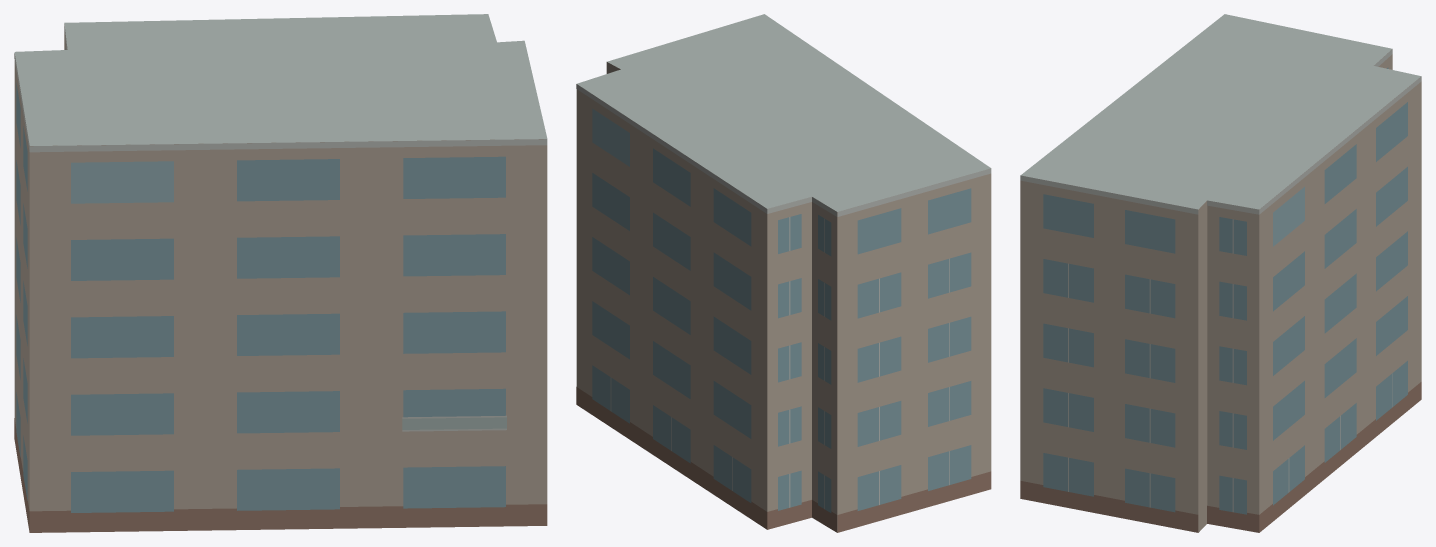
Rendered from survey-upis-32581408.glb.
3 views of the same model, side by side, from view 1: azimuth 30°, elevation 25°; view 2: azimuth 150°, elevation 25°; view 3: azimuth 270°, elevation 25° (orthographic). The views are drawn at different scales.
Visible parts, largest first — view 1: survey-upis-32581408.tmp; view 2: survey-upis-32581408.tmp; view 3: survey-upis-32581408.tmp.
Part boxes in pixels (<box>): survey-upis-32581408.tmp: <box>14,14,547,532</box>; survey-upis-32581408.tmp: <box>576,14,991,532</box>; survey-upis-32581408.tmp: <box>1020,14,1421,532</box>.
Size of the model in its own units: 19.79 by 15.25 by 17.15.
